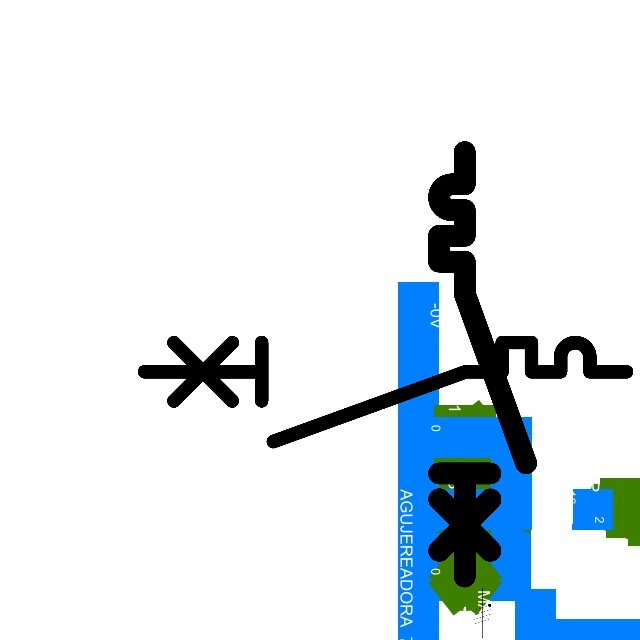interruptor_termomagnetico: (132, 330, 639, 454), (428, 141, 537, 587)
